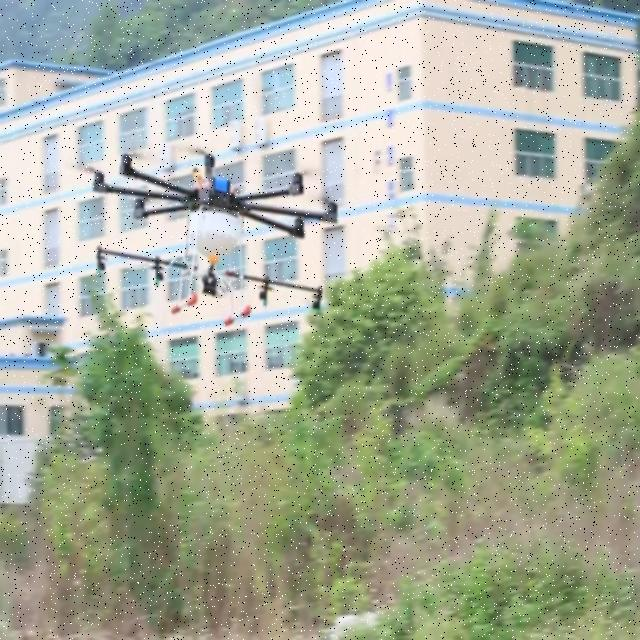UAV: (93, 154, 338, 325)
